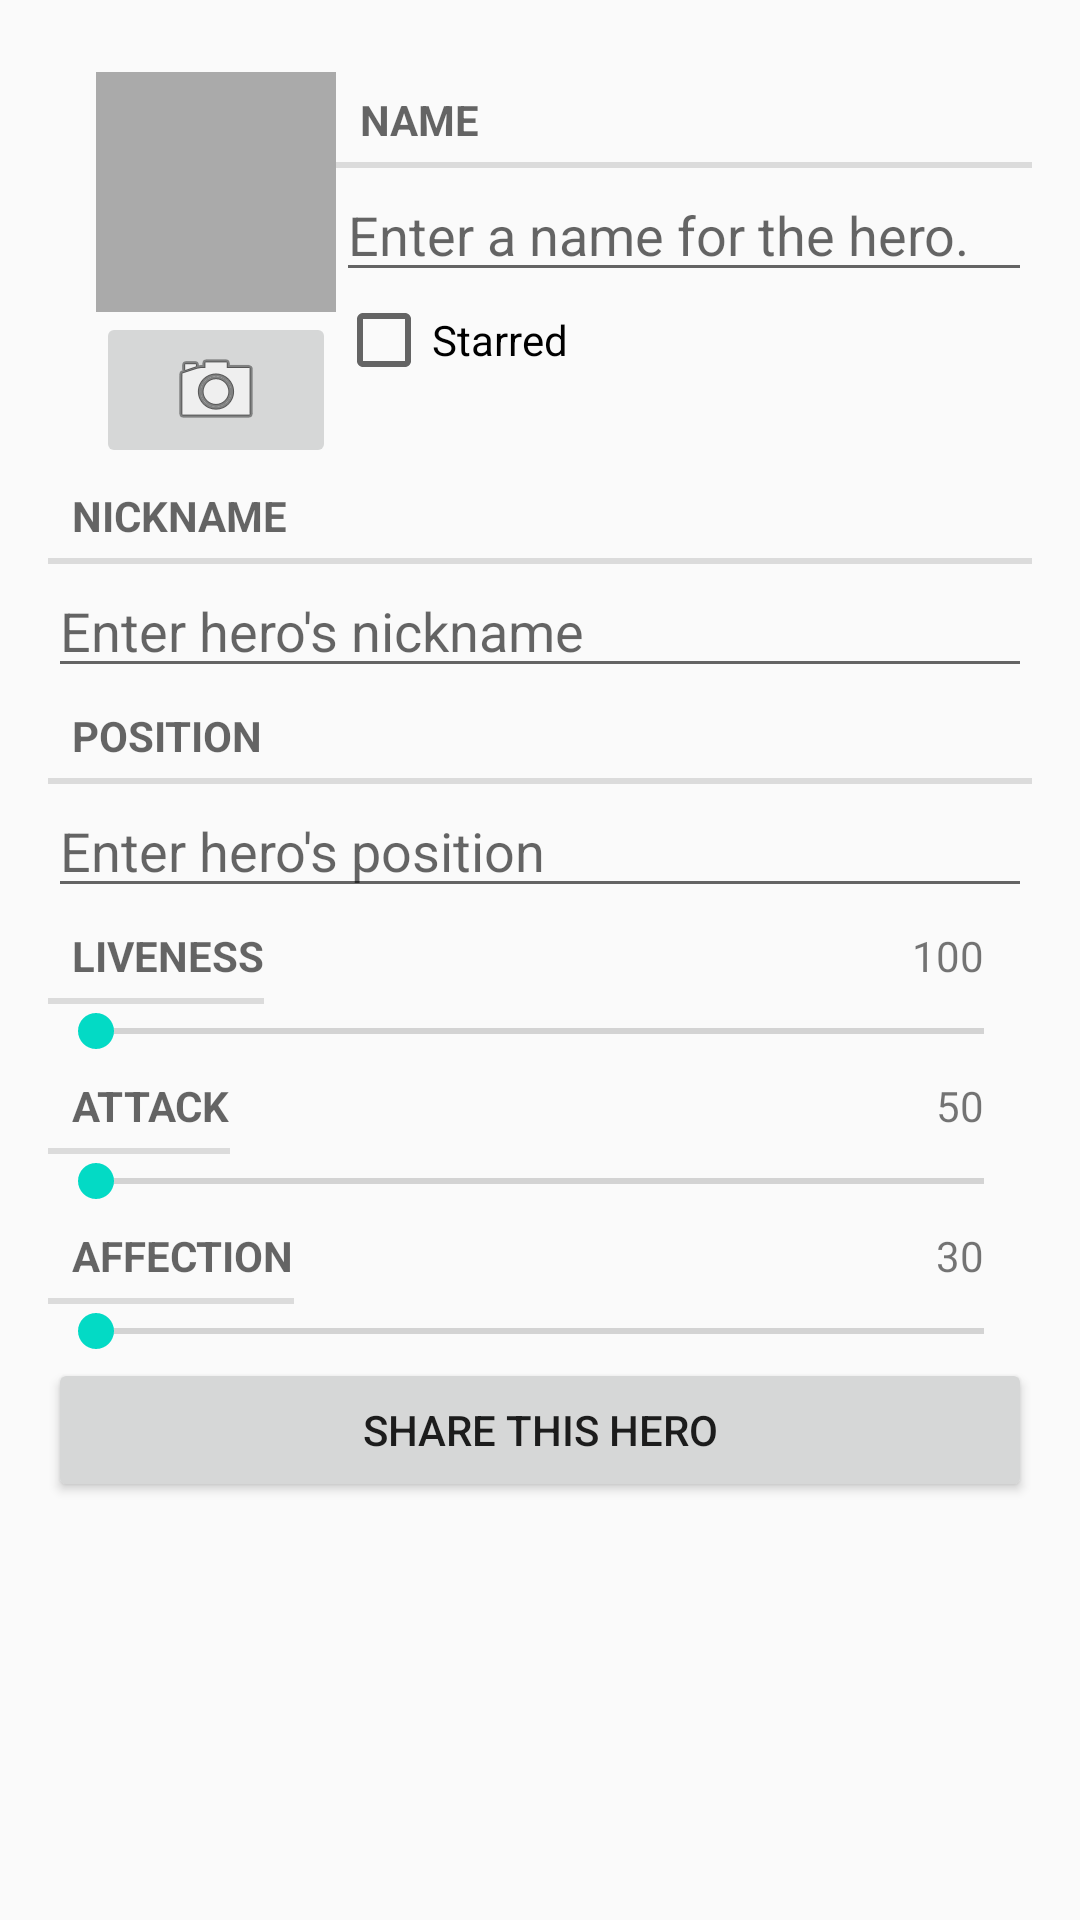

Screen size 1080*1920. Icon name, then its center in pixels as [x,y]:
camera: [216,390]
